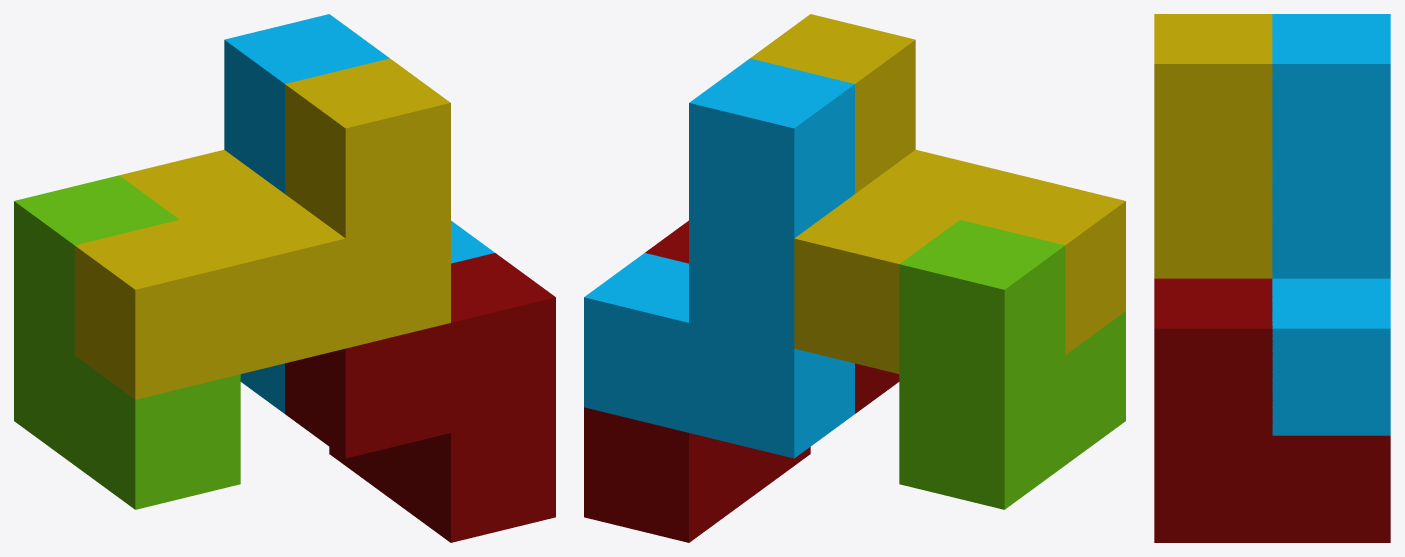
3 renders of one model, left to right at view 1: azimuth 30°, elevation 25°; view 2: azimuth 150°, elevation 25°; view 3: azimuth 270°, elevation 25°, orthographic. The views are drawn at different scales.
Visible parts, largest first — view 1: mergedBlocks(Clone); view 2: mergedBlocks(Clone); view 3: mergedBlocks(Clone).
Boxes of the visible parts, box(x1,y1,x2,y2) form: mergedBlocks(Clone): box(14, 14, 555, 542); mergedBlocks(Clone): box(584, 14, 1125, 542); mergedBlocks(Clone): box(1154, 14, 1390, 542).
Bounding box in the file's own units: 4 × 4 × 2.
Materials: 4 (4 with a texture image).
